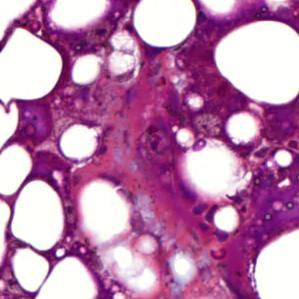steatosis: (56, 118, 100, 164)
